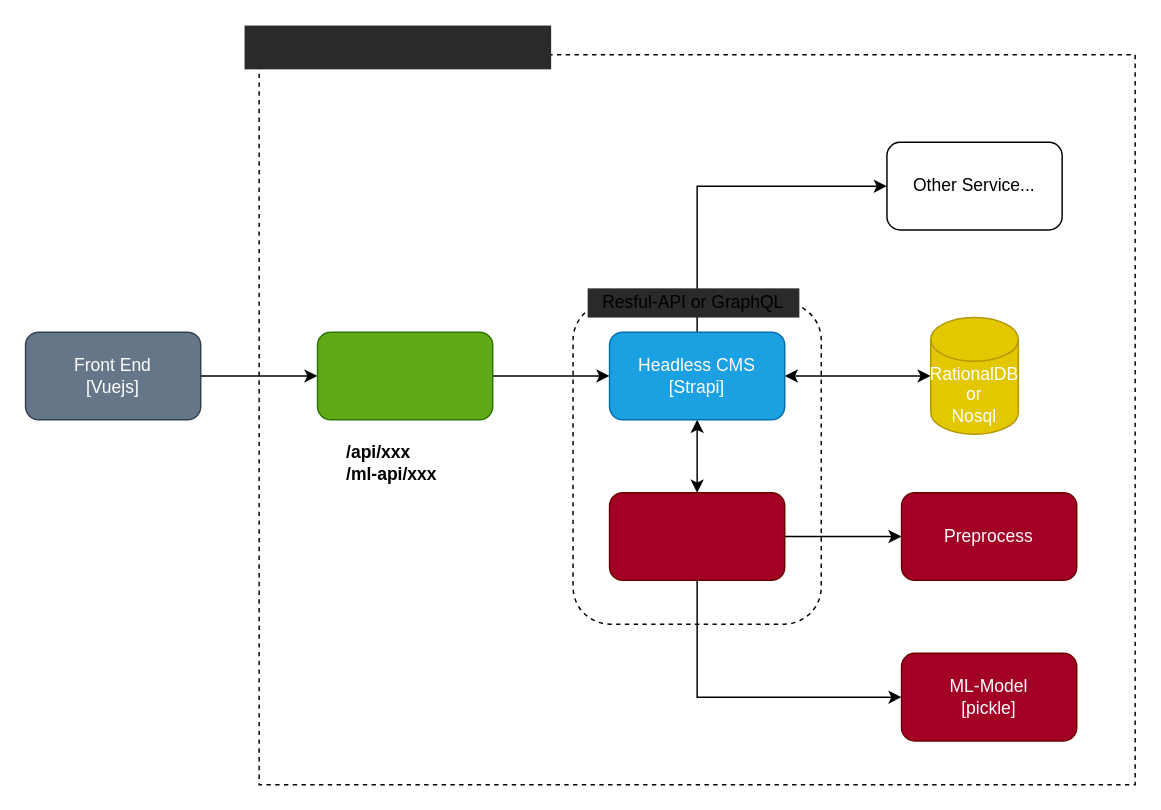
Image size: 1161x810. Some labels were removed from this diagram. Here are the shapes that lost their labels. From the top down, the centre of each, then its label:
At pixel 397 47: "Docker Container".
At pixel 404 375: "Nginx [reverse proxy]".
At pixel 696 535: "ML-API [Python Flask]".
